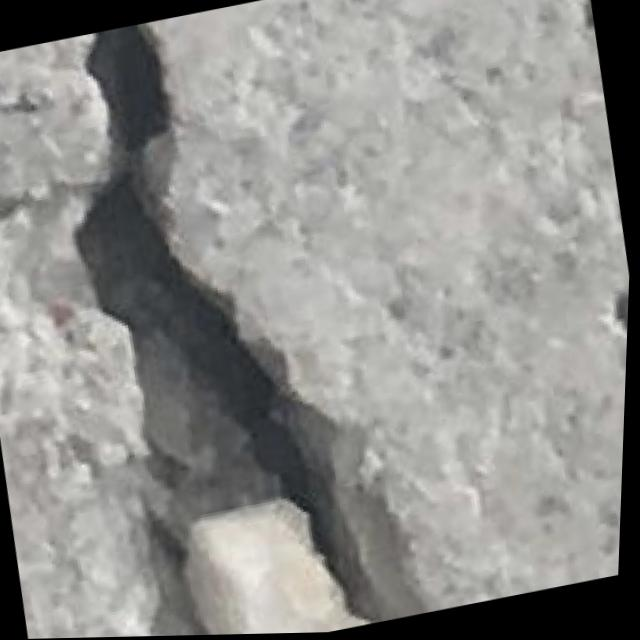Crack: (11, 0, 466, 639)
